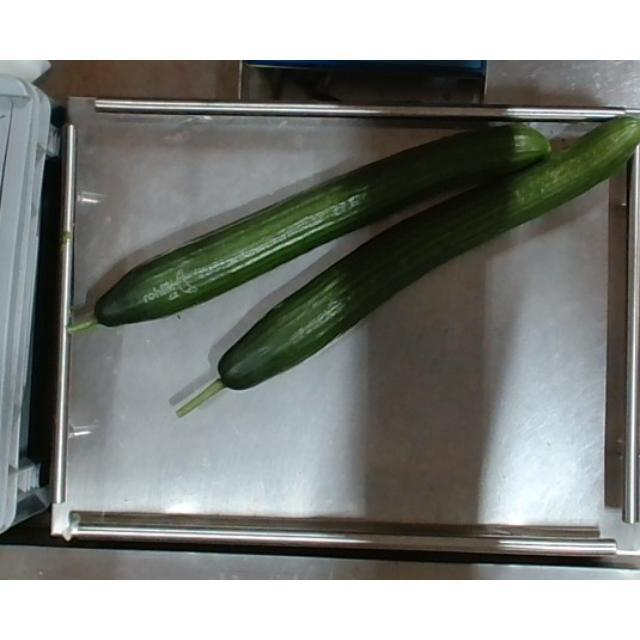cucumber: (178, 115, 640, 418), (73, 117, 550, 330)
